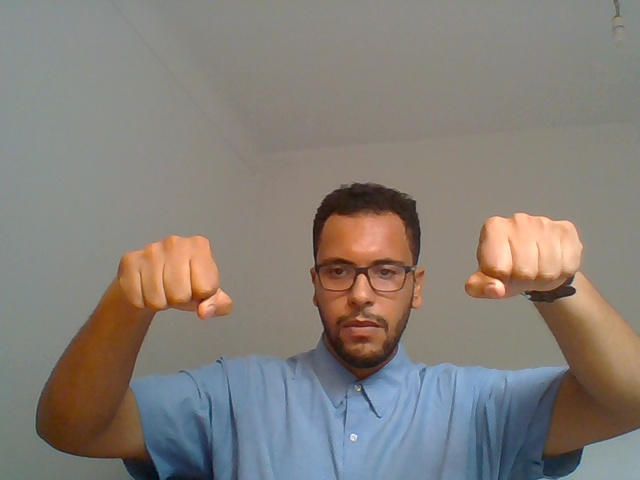yes: (75, 203, 247, 377), (463, 182, 599, 368)
